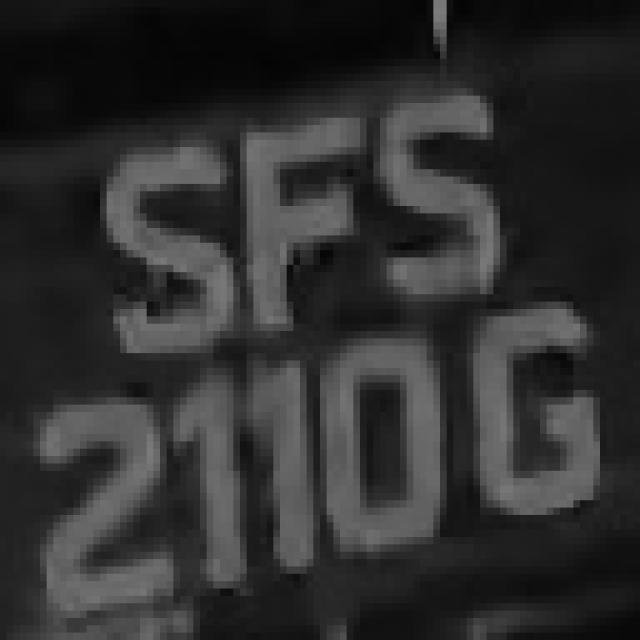0: (320, 324, 447, 566)
1: (233, 324, 327, 596), (180, 368, 253, 640)
2: (27, 390, 186, 625)
F: (227, 103, 393, 338)
G: (453, 287, 607, 552)
S: (87, 117, 233, 360), (367, 74, 513, 302)
